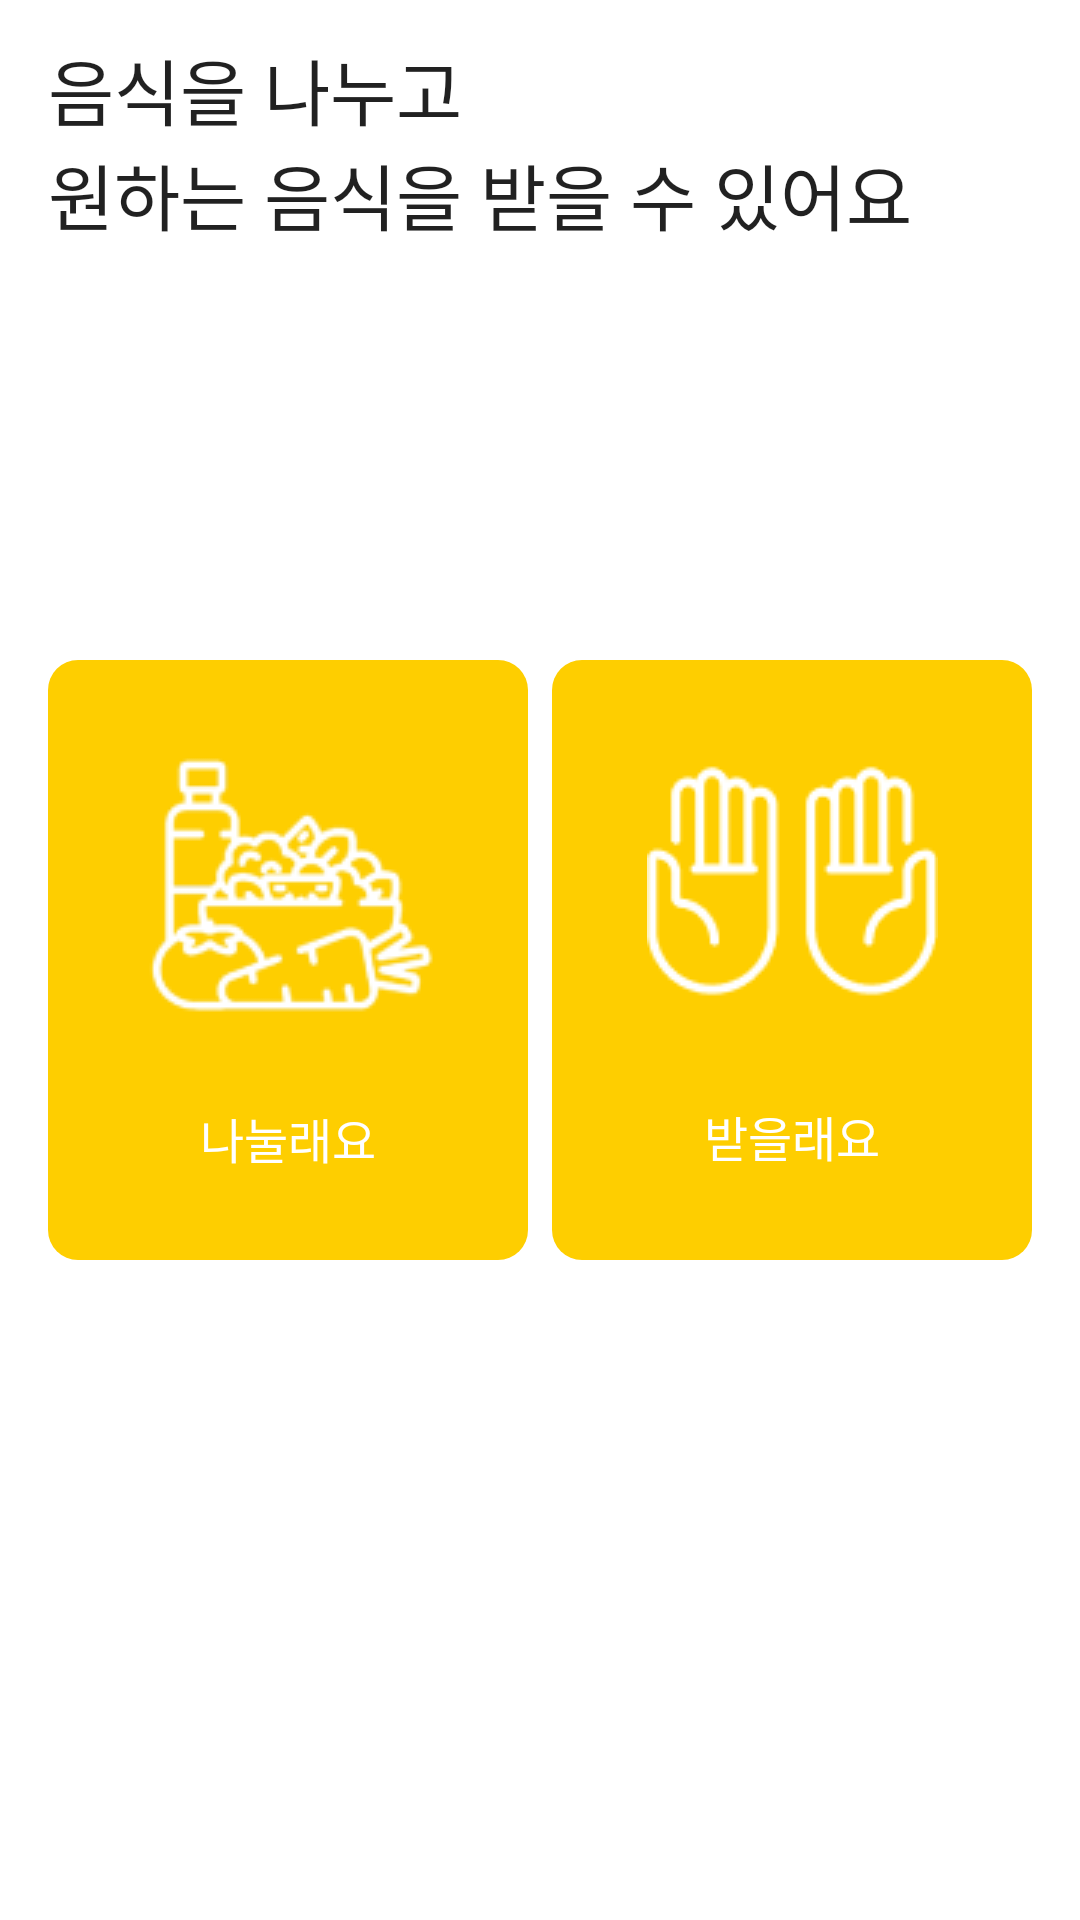

Named icons in this screenshot (1080x1920) and their bounding boxes, (x1, y1, x2, y2):
hand: (647, 766, 938, 996)
